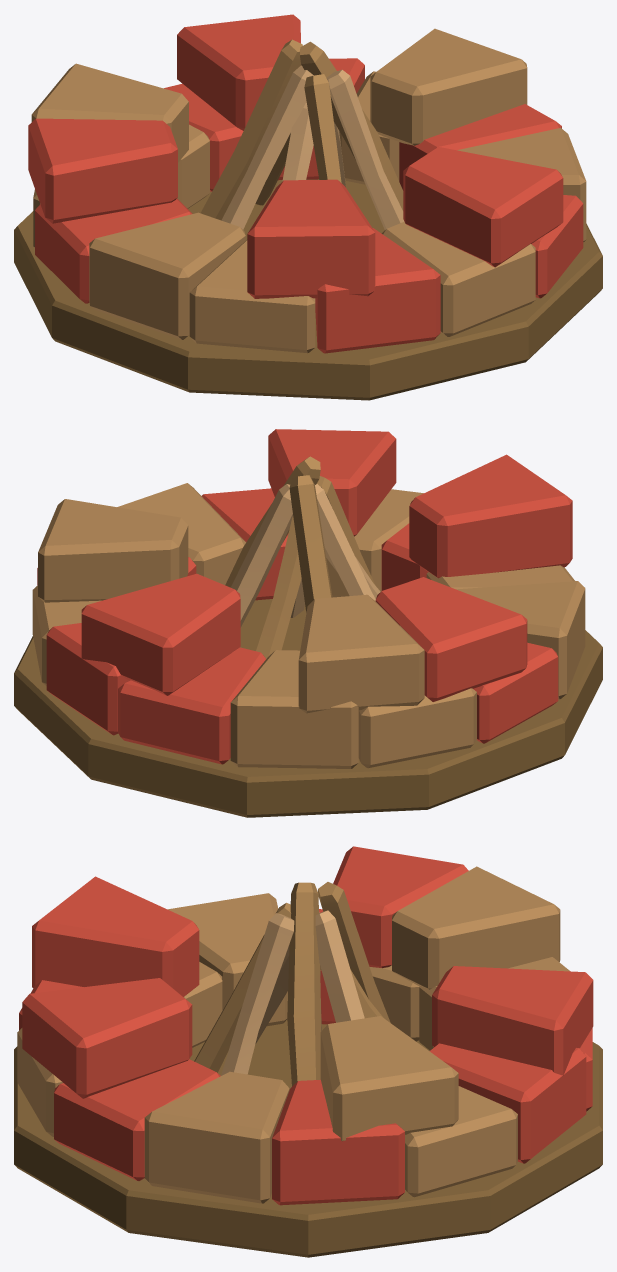
File: bonfire_a.gltf
The picture shows the model from 3 angles, top to bottom: view 1: azimuth 30°, elevation 25°; view 2: azimuth 150°, elevation 25°; view 3: azimuth 270°, elevation 25°; orthographic projection. The views are drawn at different scales.
Parts seen in each view (by area): view 1: bonfire_a001; view 2: bonfire_a001; view 3: bonfire_a001.
Part boxes in pixels (x1=…): bonfire_a001: x1=14, y1=14, x2=602, y2=400; bonfire_a001: x1=14, y1=429, x2=602, y2=817; bonfire_a001: x1=14, y1=846, x2=602, y2=1257.
Bounding box in the file's own units: 1.28 × 0.5652 × 1.22.
1 material, 1 textured.
